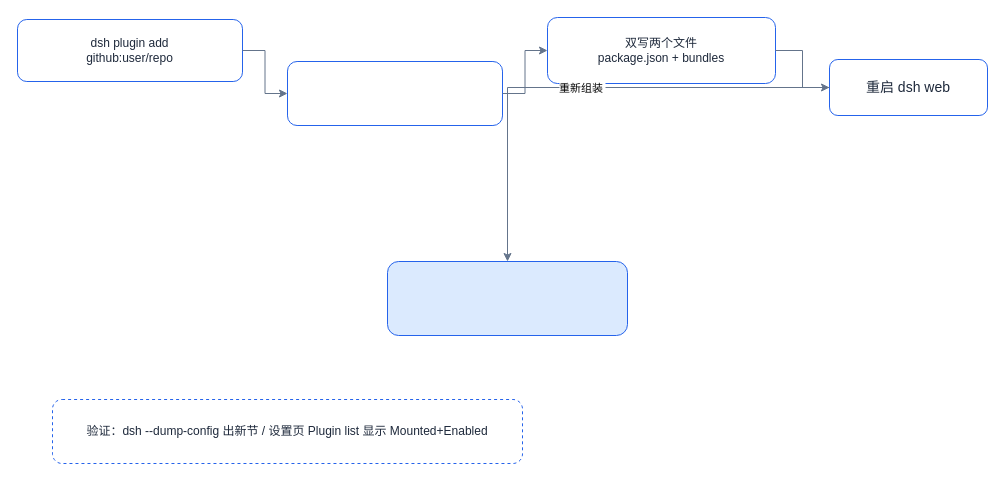
Image size: 1005x481. Some labels were removed from this diagram. The shapes that lost their labels are listed below. From the top down, each one's centre as x and y in pixels, then its label:
point (394, 93): 转发 pnpm （--profile web 目录）
point (507, 298): Loader 组装插件树生效
